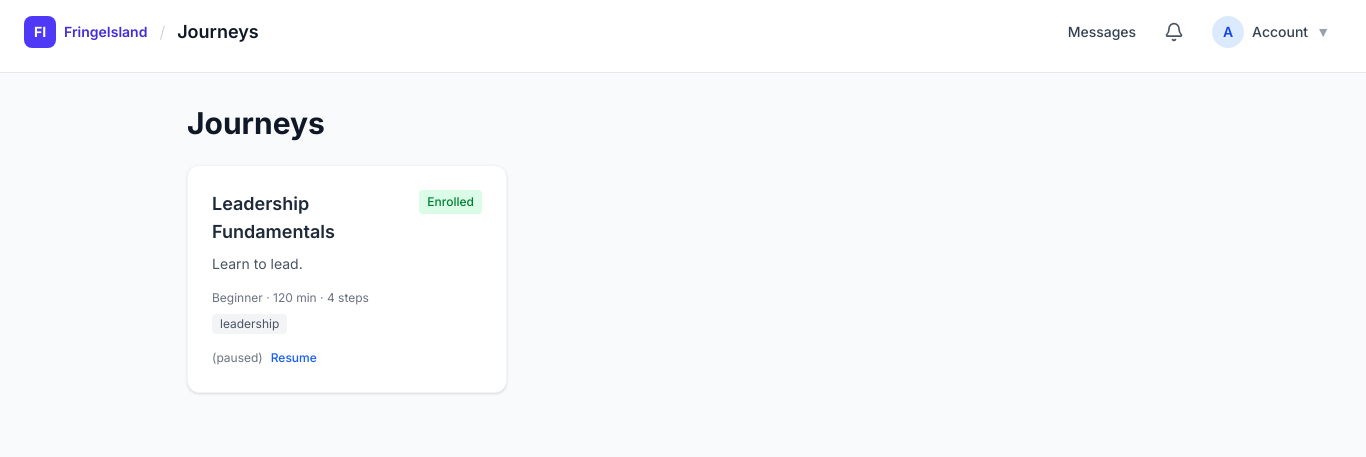
it: FEAT-H019 STORY-8 — a paused walk on the card (TASK-JRN-PAUSE-01) › a refused resume shows the message and keeps the paused card
The image size is (1366, 457).
Click the button with test id "card-resume" at [294, 358], box [271, 350, 317, 366]
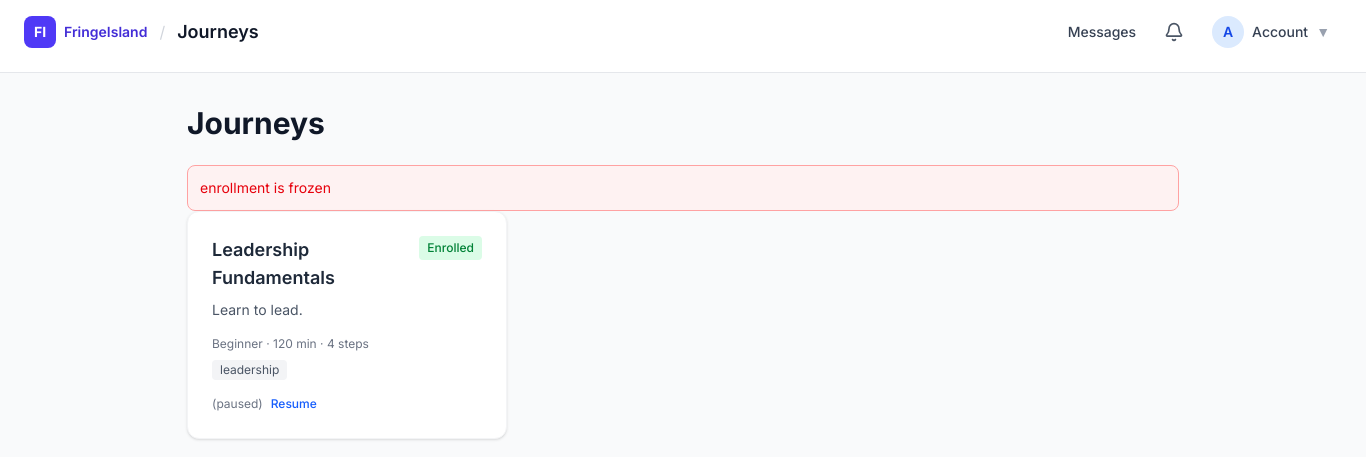
Expected: the text "(paused)" is shown, [212, 396, 263, 411]
Now the text "enrollment is frozen" is shown, box [200, 179, 331, 196]
